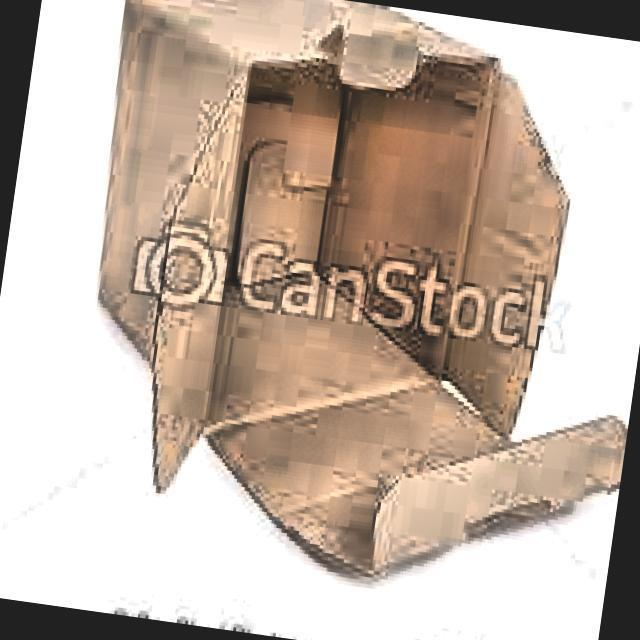cardboard: (47, 0, 640, 610)
